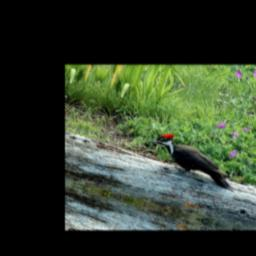Woodpecker: (140, 128, 246, 191)
